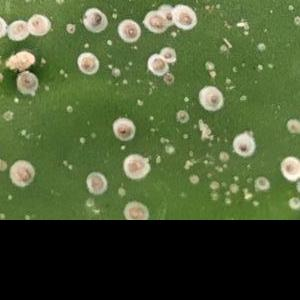Femea: (124, 155, 150, 177), (201, 89, 222, 110), (84, 9, 104, 30), (16, 73, 36, 92), (143, 12, 166, 28), (174, 9, 196, 25), (78, 53, 96, 72), (236, 136, 253, 156), (119, 22, 140, 38), (29, 19, 47, 37), (282, 160, 299, 179), (114, 121, 133, 137), (147, 57, 162, 73), (12, 21, 26, 36), (158, 48, 174, 60)
Linfa: (226, 181, 241, 196), (104, 63, 120, 77), (241, 189, 256, 201), (54, 68, 69, 80), (186, 172, 199, 185), (163, 143, 176, 156), (181, 158, 193, 171), (216, 150, 229, 162), (61, 159, 73, 171), (208, 181, 221, 192), (167, 31, 179, 38), (101, 38, 113, 44), (80, 42, 92, 48)
Macho: (218, 38, 225, 55)
